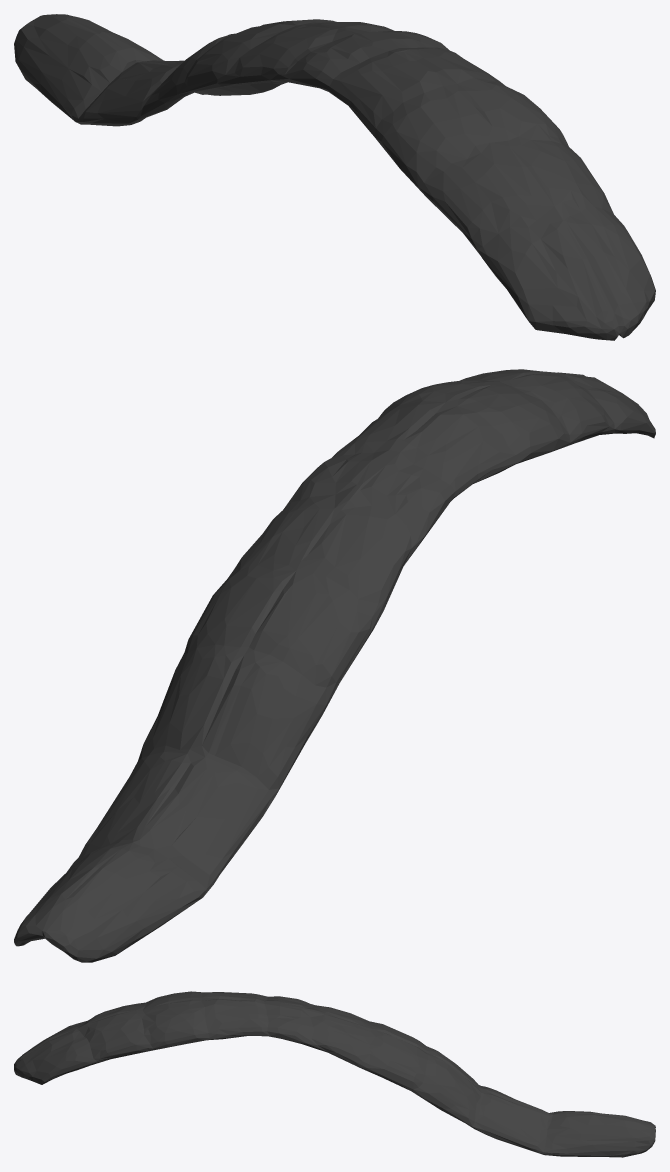
File: m_rectus_abdominis.glb
3 renders of one model, top to bottom at view 1: azimuth 30°, elevation 25°; view 2: azimuth 150°, elevation 25°; view 3: azimuth 270°, elevation 25°, orthographic. The views are drawn at different scales.
Visible parts, largest first — view 1: m_rectus_abdominis; view 2: m_rectus_abdominis; view 3: m_rectus_abdominis.
Boxes of the visible parts, x1,y1,x2,y2 form: m_rectus_abdominis: (14, 14, 655, 340); m_rectus_abdominis: (14, 369, 655, 962); m_rectus_abdominis: (14, 991, 655, 1157).
Size of the model in its own units: 0.0023 by 0.00381 by 0.015.
1 material, 1 textured.
